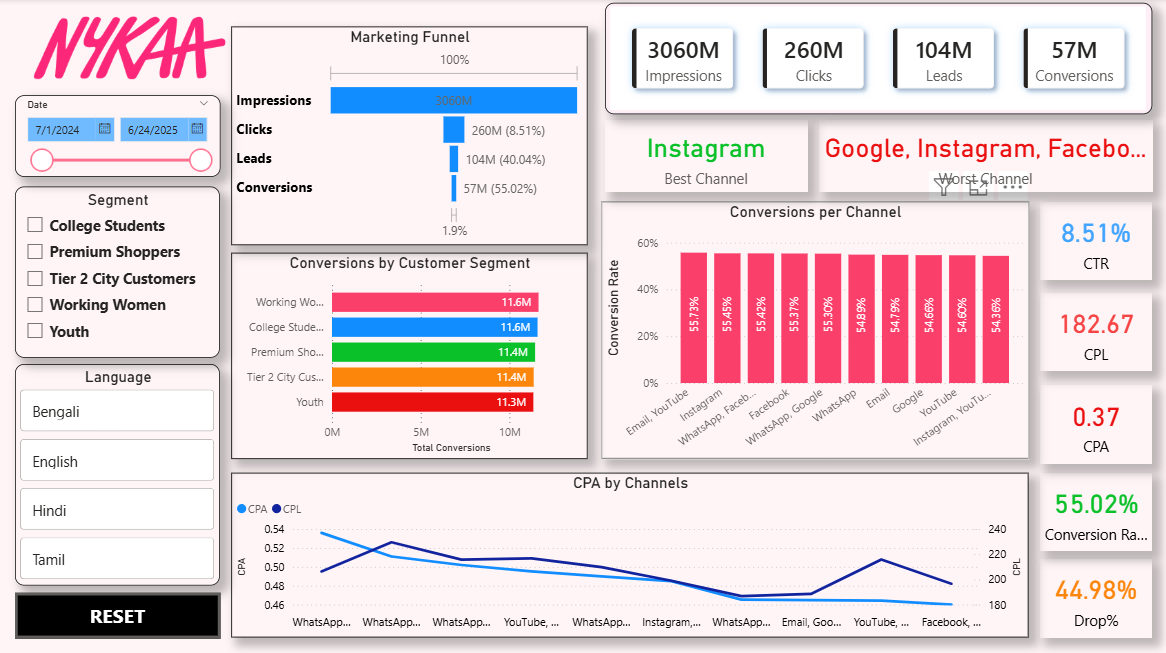

The dashboard page shown, as its layout file describes it:
{"tool":"powerbi","page":{"name":"Page 2","canvas":[1280,720],"ordinal":1},"visuals":[{"type":"cardVisual","fields":{"Data":["Sum(nykaa_campaign_data.Impressions)","Sum(nykaa_campaign_data.Clicks)","Sum(nykaa_campaign_data.Leads)","Sum(nykaa_campaign_data.Conversions)"]},"box":[664.2,4.1,601,122.1],"z":0},{"type":"clusteredColumnChart","title":"Conversions per Channel","fields":{"Category":["nykaa_campaign_data.Channel_Used"],"Y":["nykaa_campaign_data.Conversion Rate"]},"box":[660,222.3,469.3,282.7],"z":1000},{"type":"image","box":[0,0,284,105.7],"z":2000},{"type":"funnel","title":" Marketing Funnel ","fields":{"Y":["Sum(nykaa_campaign_data.Impressions)","Sum(nykaa_campaign_data.Clicks)","Sum(nykaa_campaign_data.Leads)","Sum(nykaa_campaign_data.Conversions)"]},"box":[253.9,30.2,391.1,240.1],"z":3000},{"type":"slicer","fields":{"Values":["nykaa_campaign_data.Date"]},"box":[16.3,105.8,225.6,89.5],"z":4000},{"type":"slicer","title":" Segment","fields":{"Values":["nykaa_campaign_data.Customer_Segment"]},"box":[16.5,205.8,225,188],"z":5000},{"type":"advancedSlicerVisual","title":"Language","fields":{"Values":["nykaa_campaign_data.Language"]},"box":[16.5,400.7,225,242.9],"z":6000},{"type":"actionButton","title":"RESET","box":[16.3,652.3,225.6,50],"z":7000},{"type":"lineChart","title":"CPA by Channels","fields":{"Y":["nykaa_campaign_data.CPA"],"Category":["nykaa_campaign_data.Channel_Used"],"Y2":["nykaa_campaign_data.CPL"]},"box":[253.9,520.1,875.5,181.1],"z":8000},{"type":"clusteredBarChart","title":" Conversions by Customer Segment","fields":{"Category":["nykaa_campaign_data.Customer_Segment"],"Y":["Sum(nykaa_campaign_data.Conversions)"]},"box":[253.9,278.6,391.1,226.4],"z":9000},{"type":"card","fields":{"Values":["nykaa_campaign_data.Conversion Rate"]},"box":[1141.7,520.1,123.5,86.4],"z":10000},{"type":"card","fields":{"Values":["nykaa_campaign_data.CTR"]},"box":[1141.7,222.3,123.5,86.4],"z":11000},{"type":"card","fields":{"Values":["nykaa_campaign_data.CPL"]},"box":[1141.7,322.5,123.5,86.4],"z":12000},{"type":"card","fields":{"Values":["nykaa_campaign_data.CPA"]},"box":[1141.7,424,123.5,86.4],"z":13000},{"type":"card","fields":{"Values":["nykaa_campaign_data.Drop%"]},"box":[1141.7,614.8,123.5,86.4],"z":14000},{"type":"card","fields":{"Values":["nykaa_campaign_data.Best Channel"]},"box":[664.2,133.1,222.3,79.6],"z":15000},{"type":"card","fields":{"Values":["nykaa_campaign_data.Worst Channel"]},"box":[898.8,133.1,366.4,79.6],"z":16000}]}

Visuals, with their boxes in screenshot pixels (x1, y1, x2, y2), scaled from the page's 1280x720 canvas onto the 1166x653 screenshot:
cardVisual - Sum(nykaa_campaign_data.Impressions) x Sum(nykaa_campaign_data.Clicks): bbox(605, 4, 1153, 114)
"Conversions per Channel" clusteredColumnChart: bbox(601, 202, 1029, 458)
image: bbox(0, 0, 259, 96)
" Marketing Funnel " funnel: bbox(231, 27, 588, 245)
slicer - nykaa_campaign_data.Date: bbox(15, 96, 220, 177)
" Segment" slicer: bbox(15, 187, 220, 357)
"Language" advancedSlicerVisual: bbox(15, 363, 220, 584)
"RESET" actionButton: bbox(15, 592, 220, 637)
"CPA by Channels" lineChart: bbox(231, 472, 1029, 636)
" Conversions by Customer Segment" clusteredBarChart: bbox(231, 253, 588, 458)
card - nykaa_campaign_data.Conversion Rate: bbox(1040, 472, 1153, 550)
card - nykaa_campaign_data.CTR: bbox(1040, 202, 1153, 280)
card - nykaa_campaign_data.CPL: bbox(1040, 292, 1153, 371)
card - nykaa_campaign_data.CPA: bbox(1040, 385, 1153, 463)
card - nykaa_campaign_data.Drop%: bbox(1040, 558, 1153, 636)
card - nykaa_campaign_data.Best Channel: bbox(605, 121, 808, 193)
card - nykaa_campaign_data.Worst Channel: bbox(819, 121, 1153, 193)
